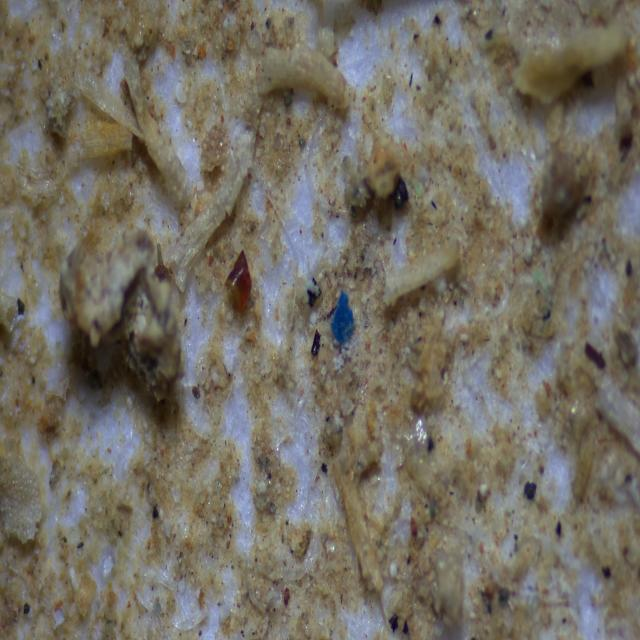microplastic: (328, 291, 363, 347)
